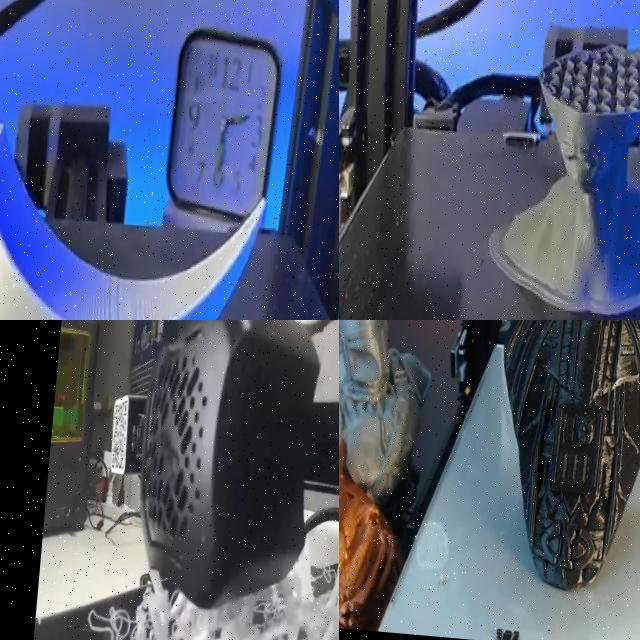spaghetti: (63, 608, 184, 640)
